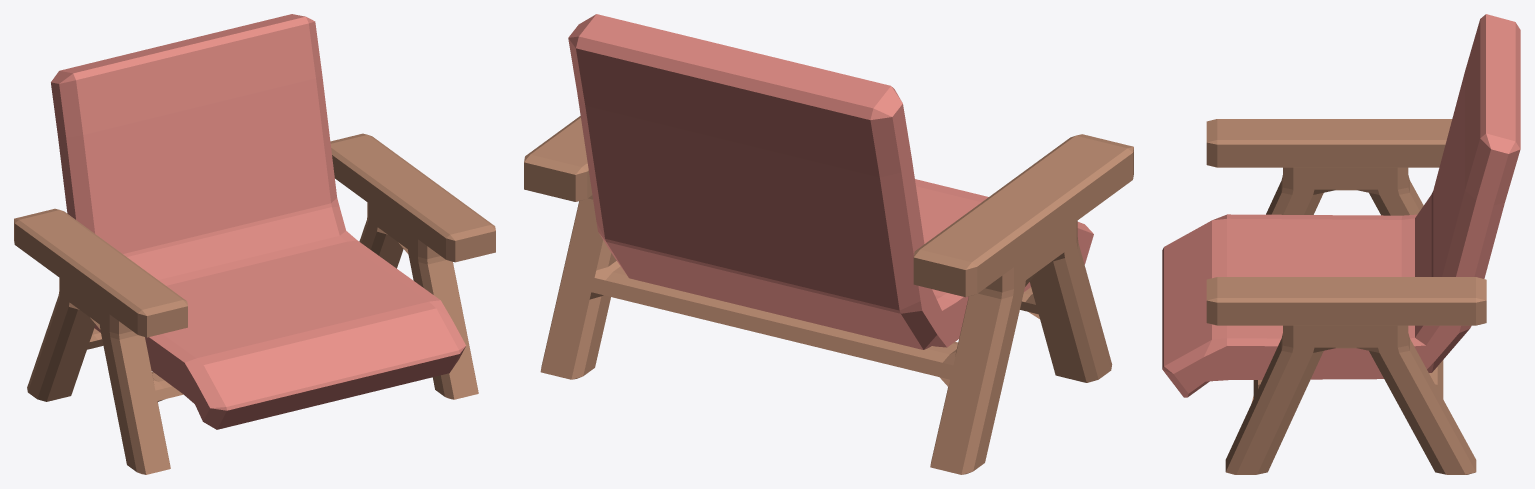
File: chair_small_garden.fbx
3 views of the same model, side by side, from view 1: azimuth 30°, elevation 25°; view 2: azimuth 150°, elevation 25°; view 3: azimuth 270°, elevation 25° (orthographic). The views are drawn at different scales.
Visible parts, largest first — view 1: chair_small_garden, Cube.002; view 2: chair_small_garden, Cube.002; view 3: Cube.002, chair_small_garden.
Boxes of the visible parts, <box> form: chair_small_garden: <box>51,14,466,429</box>; Cube.002: <box>14,133,495,474</box>; chair_small_garden: <box>568,14,1093,349</box>; Cube.002: <box>524,116,1133,474</box>; Cube.002: <box>1206,119,1486,474</box>; chair_small_garden: <box>1162,14,1520,397</box>.
Bounding box in the file's own units: 113 × 90.6 × 92.93.
